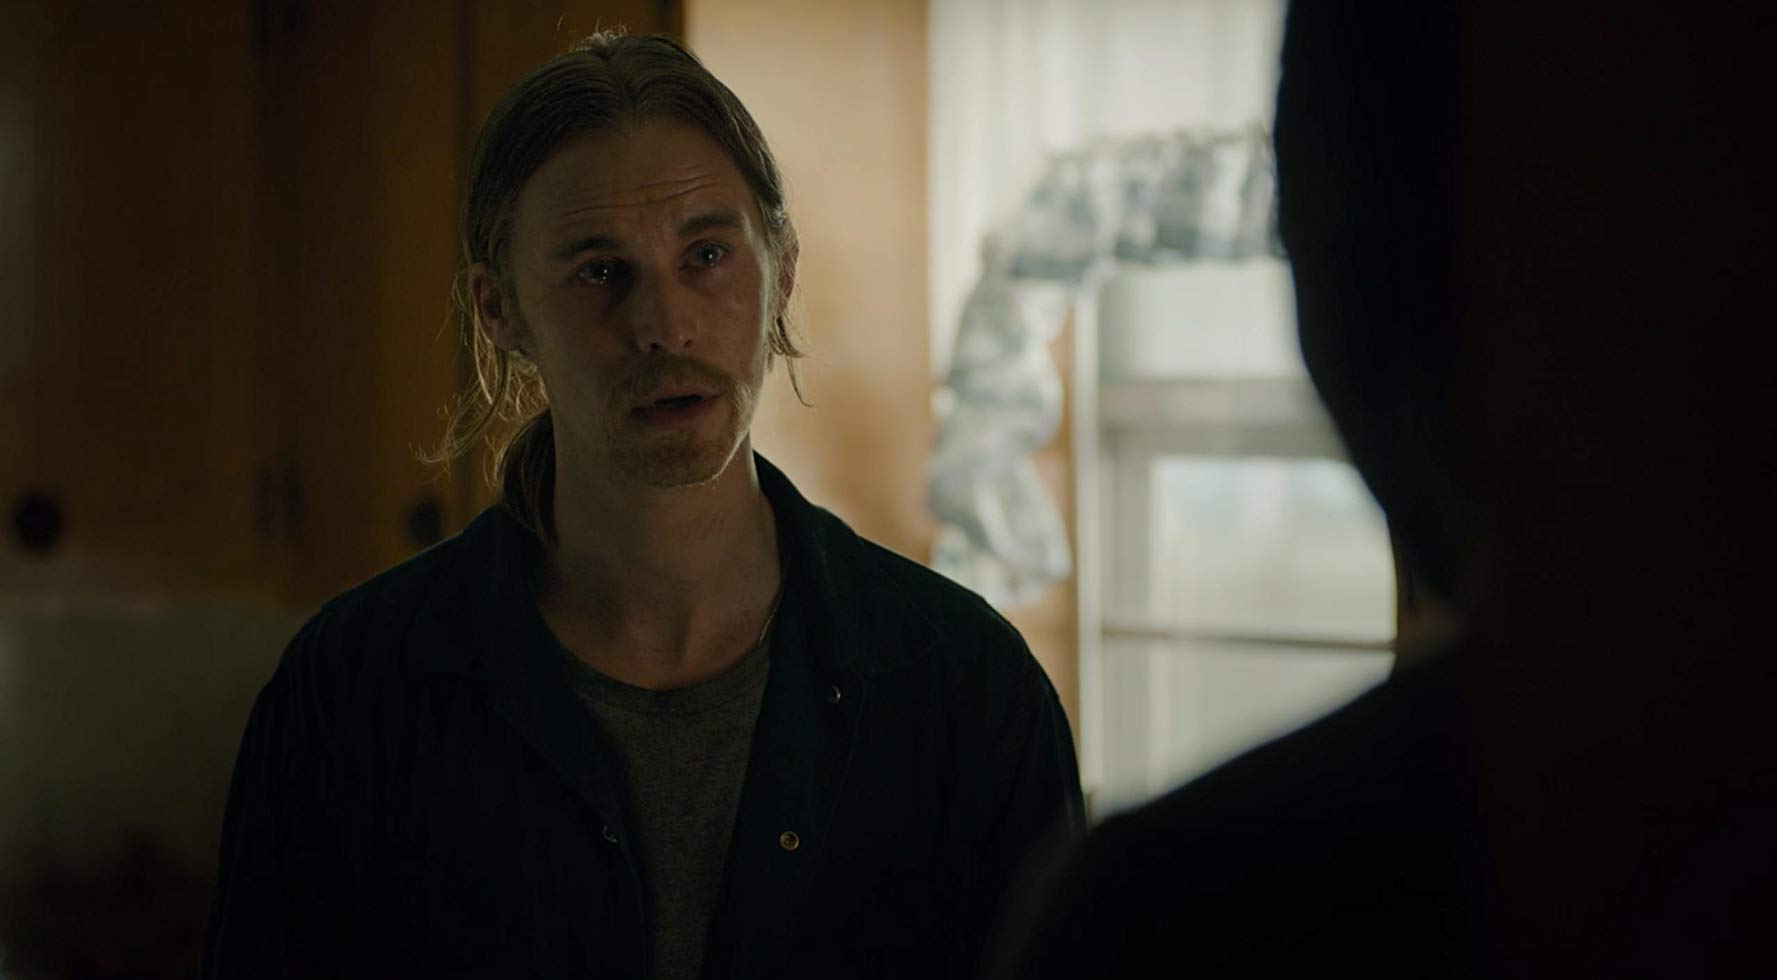person: (239, 36, 1089, 980)
